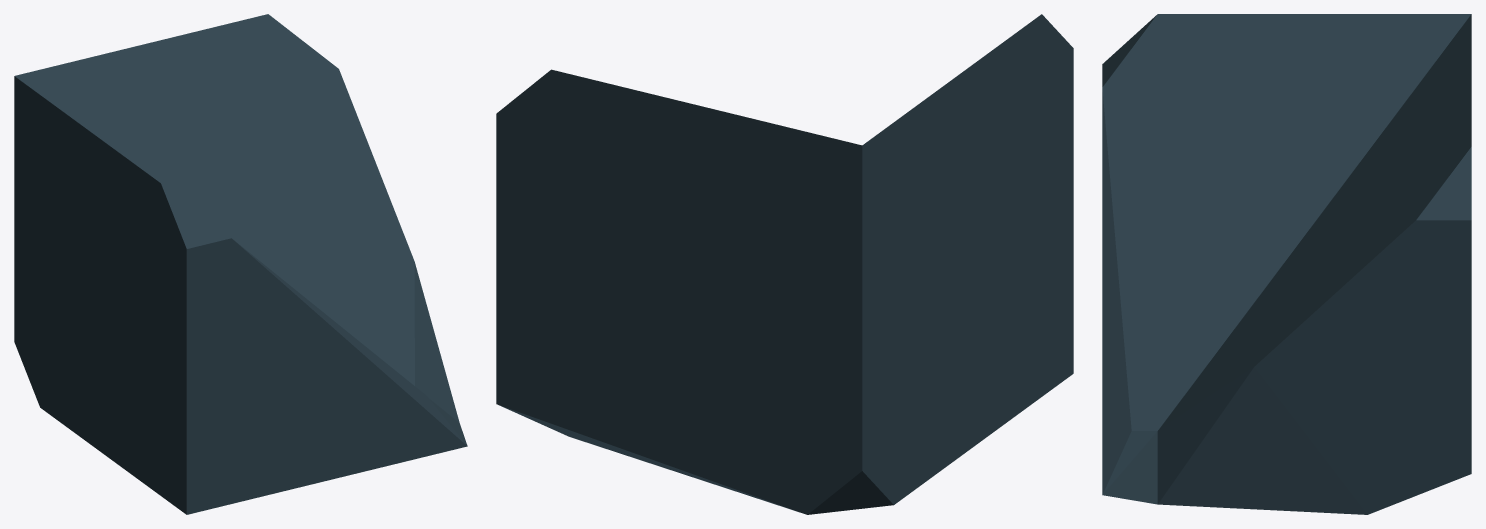
Rendered from ramp_straight_narrow_corner_conc.fbx.
The picture shows the model from 3 angles, left to right: view 1: azimuth 30°, elevation 25°; view 2: azimuth 150°, elevation 25°; view 3: azimuth 270°, elevation 25°; orthographic projection. The views are drawn at different scales.
Parts seen in each view (by area): view 1: ramp_straight_narrow_corner_conc; view 2: ramp_straight_narrow_corner_conc; view 3: ramp_straight_narrow_corner_conc.
Part boxes in pixels (x1,y1,x2,y2): ramp_straight_narrow_corner_conc: (14, 14, 467, 514); ramp_straight_narrow_corner_conc: (496, 14, 1073, 514); ramp_straight_narrow_corner_conc: (1102, 14, 1471, 514).
Size of the model in its own units: 51.36 by 50.92 by 50.
